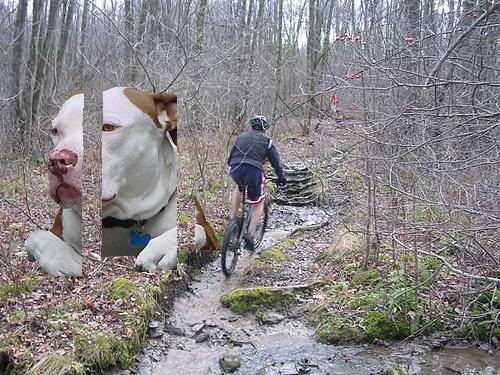tampered: (26, 88, 220, 276)
